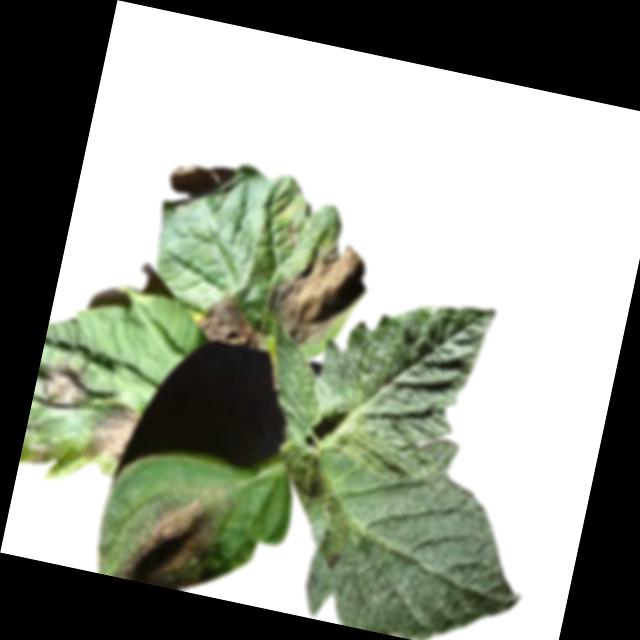Late_blight: (260, 231, 374, 359), (117, 484, 227, 595), (192, 287, 271, 353), (161, 156, 236, 220), (82, 396, 141, 466), (36, 356, 95, 418), (30, 442, 55, 466)
